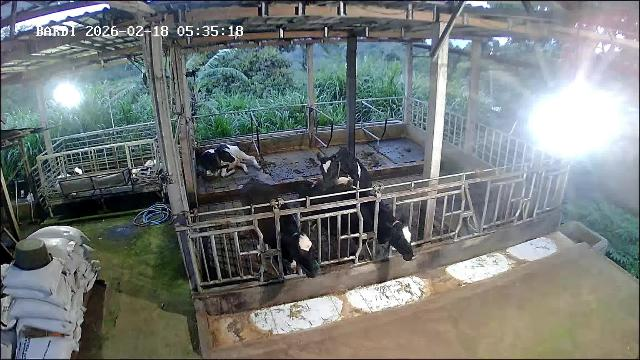mounting: (313, 147, 373, 219)
